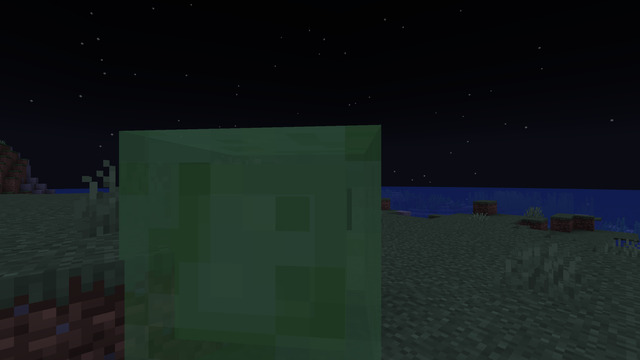slimes: (155, 96, 413, 351)
